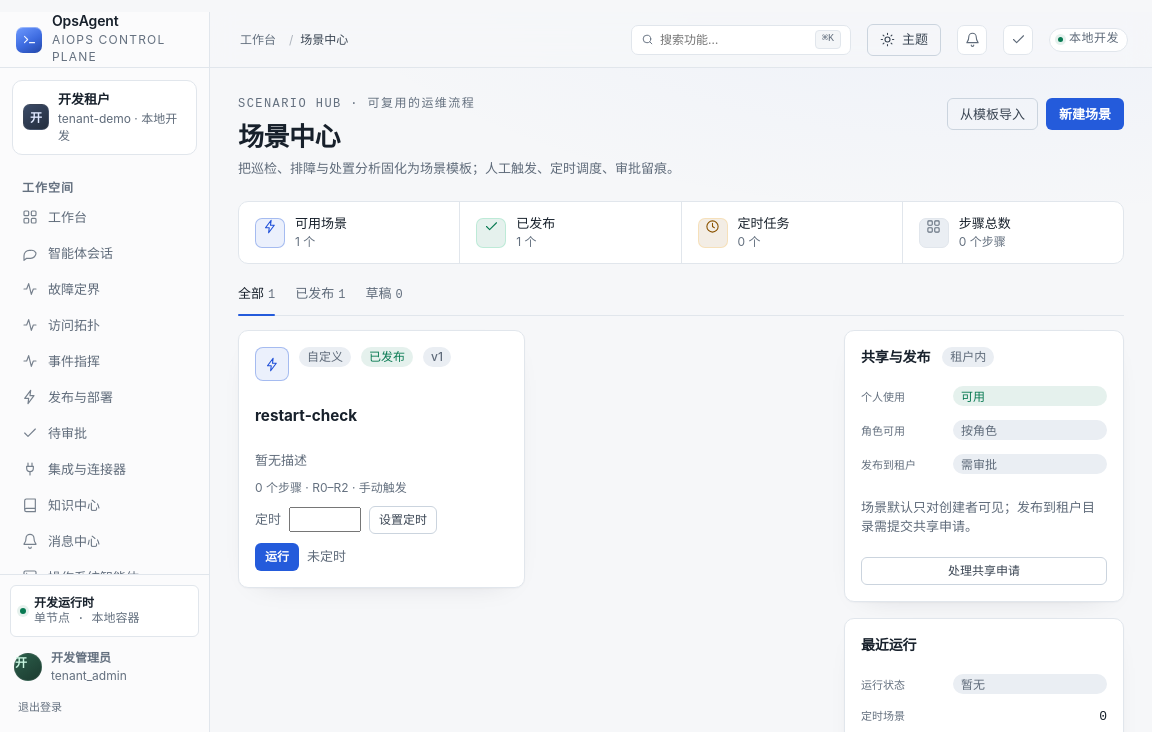
Test: Scenarios › approves an awaiting scenario run
The image size is (1152, 732).
Step 1. Click the button "运行" → (277, 557), box [255,543,299,571]
(page scrolled)
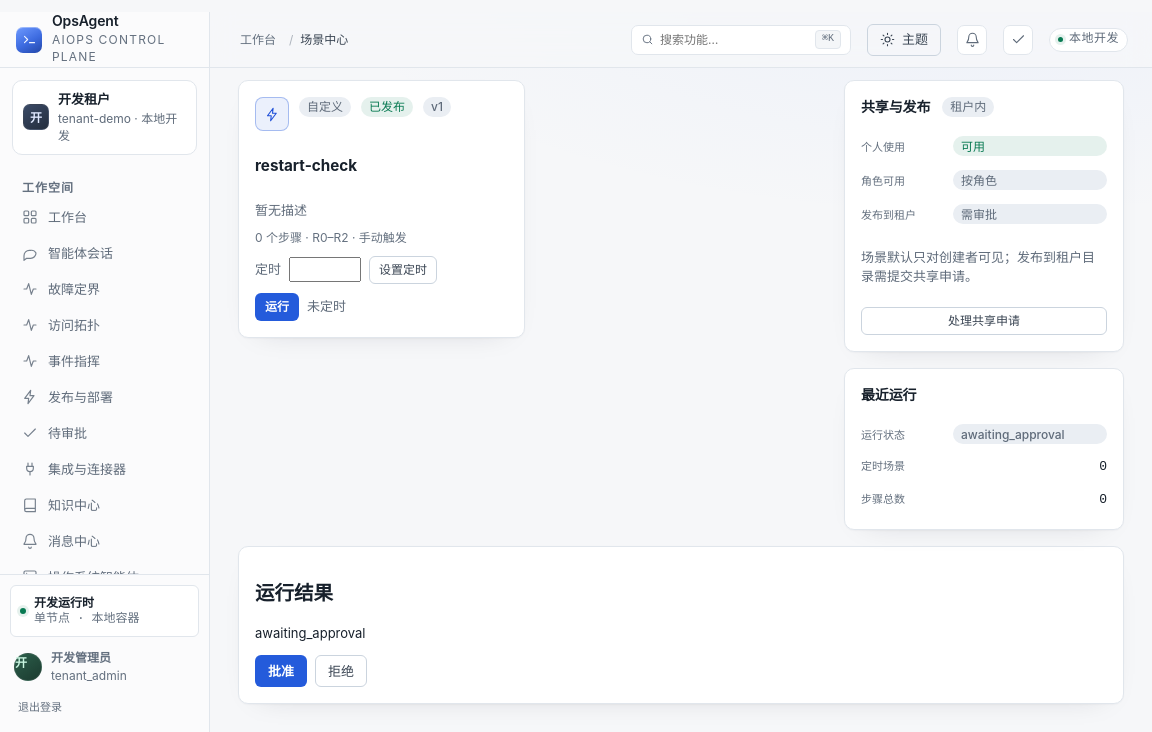
Step 2. Click the button "批准" → (281, 672), box [255,656,307,688]
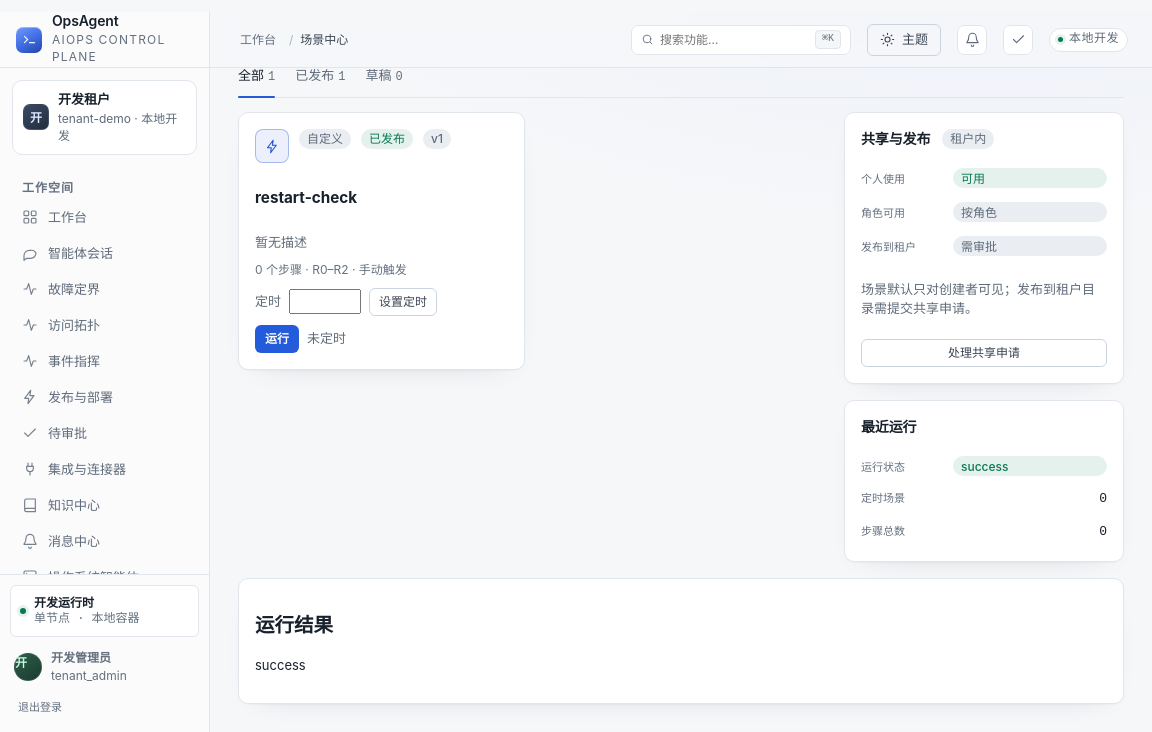
Expected: the text "success" next to "运行状态" is shown, [961,459,1008,474]
